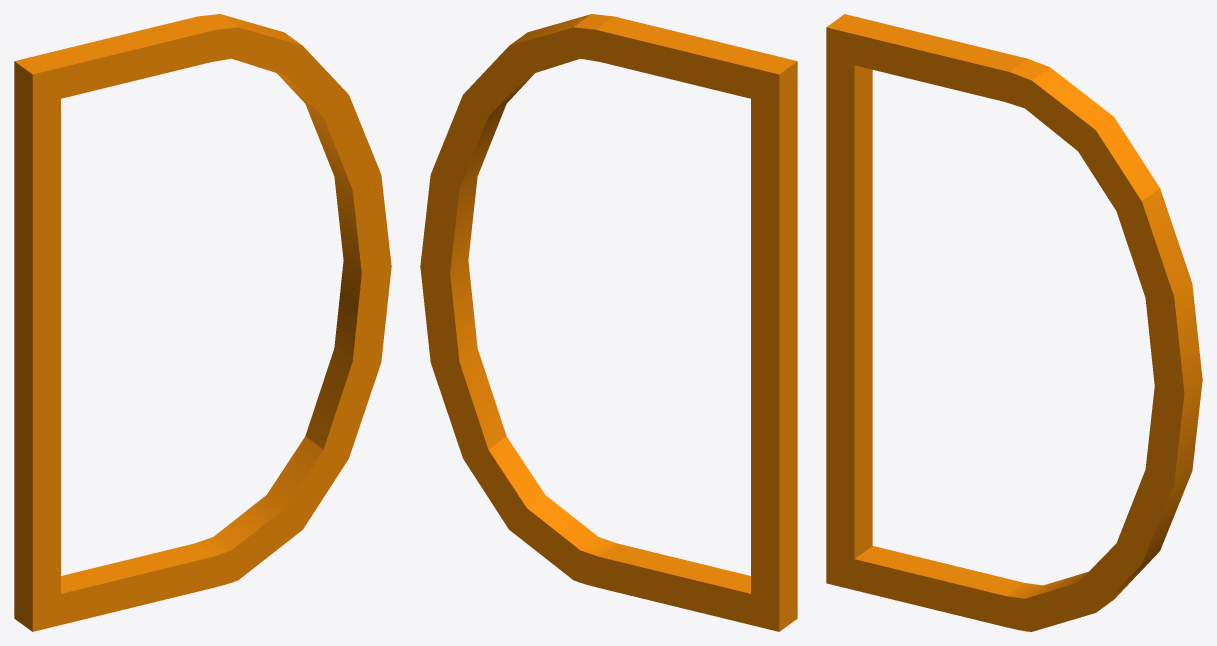
3 views of the same model, side by side, from view 1: azimuth 30°, elevation 25°; view 2: azimuth 150°, elevation 25°; view 3: azimuth 330°, elevation 25° (orthographic).
Parts seen in each view (by area): view 1: D; view 2: D; view 3: D.
Boxes of the visible parts, x1,y1,x2,y2 form: D: (14, 14, 391, 631); D: (420, 14, 797, 631); D: (826, 14, 1202, 631).
Size of the model in its own units: 56.69 by 84.1 by 5.
